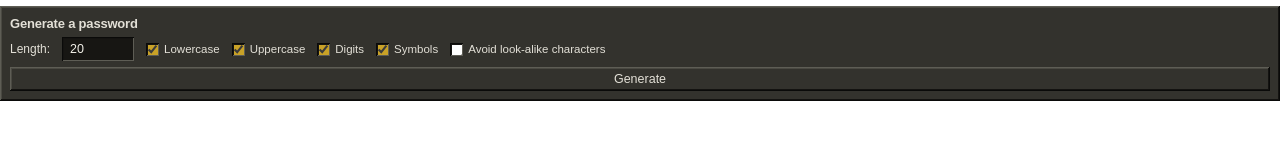
it: PasswordGenerator › explains a refusal from Rust
Click the button "Generate".
click(640, 79)  # box [10,67,1270,91]
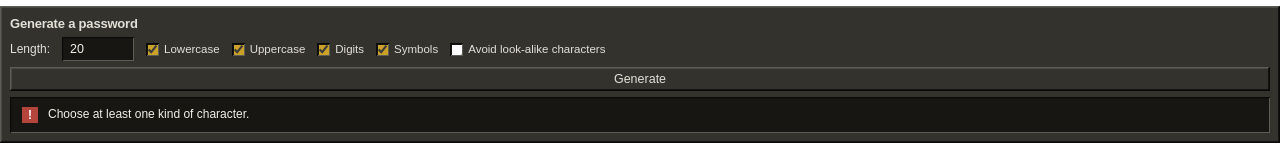
expect the message reads "Choose at least one kind of character.": met, box [48,107,250,121]
